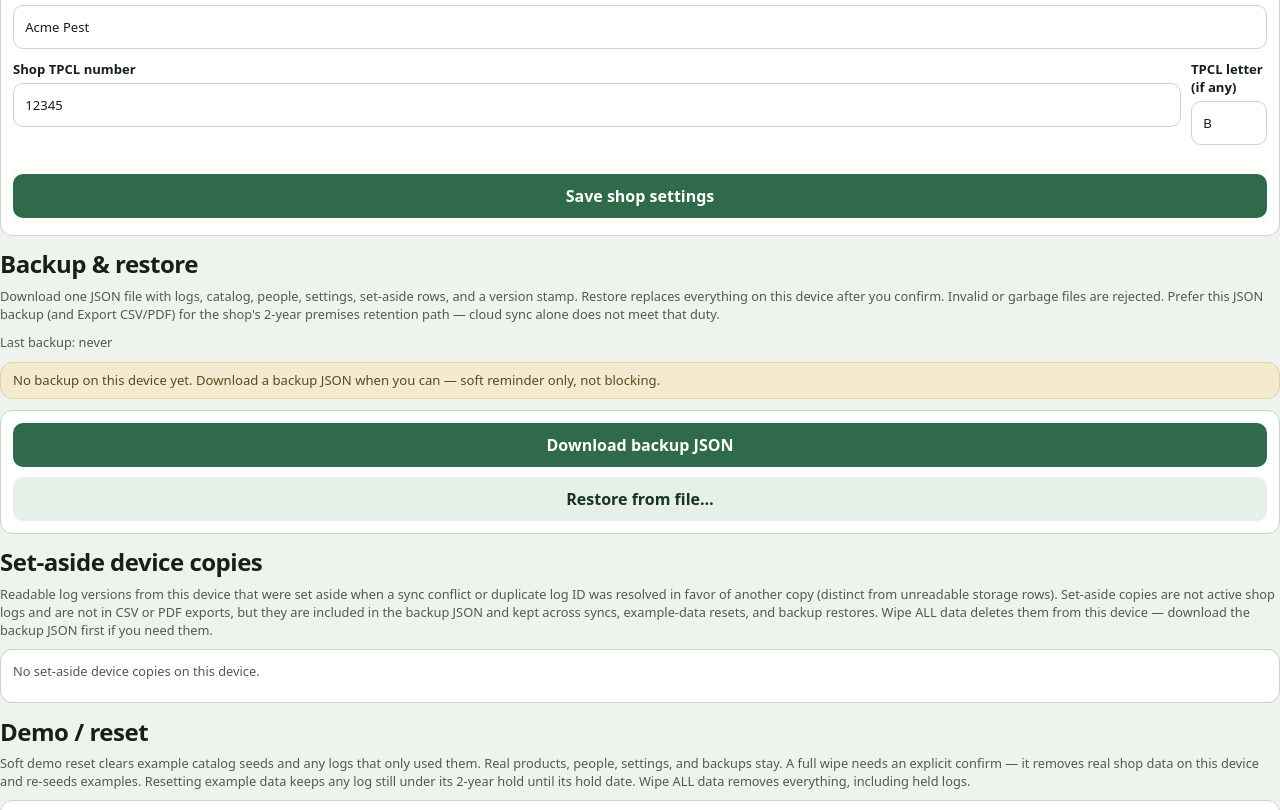
Test case: Settings backup: download (shared shop) › downloads the pulled snapshot with shared provenance
The image size is (1280, 810).
(page scrolled)
Click the button "Download backup JSON".
click(640, 445)  # box [13,423,1267,467]
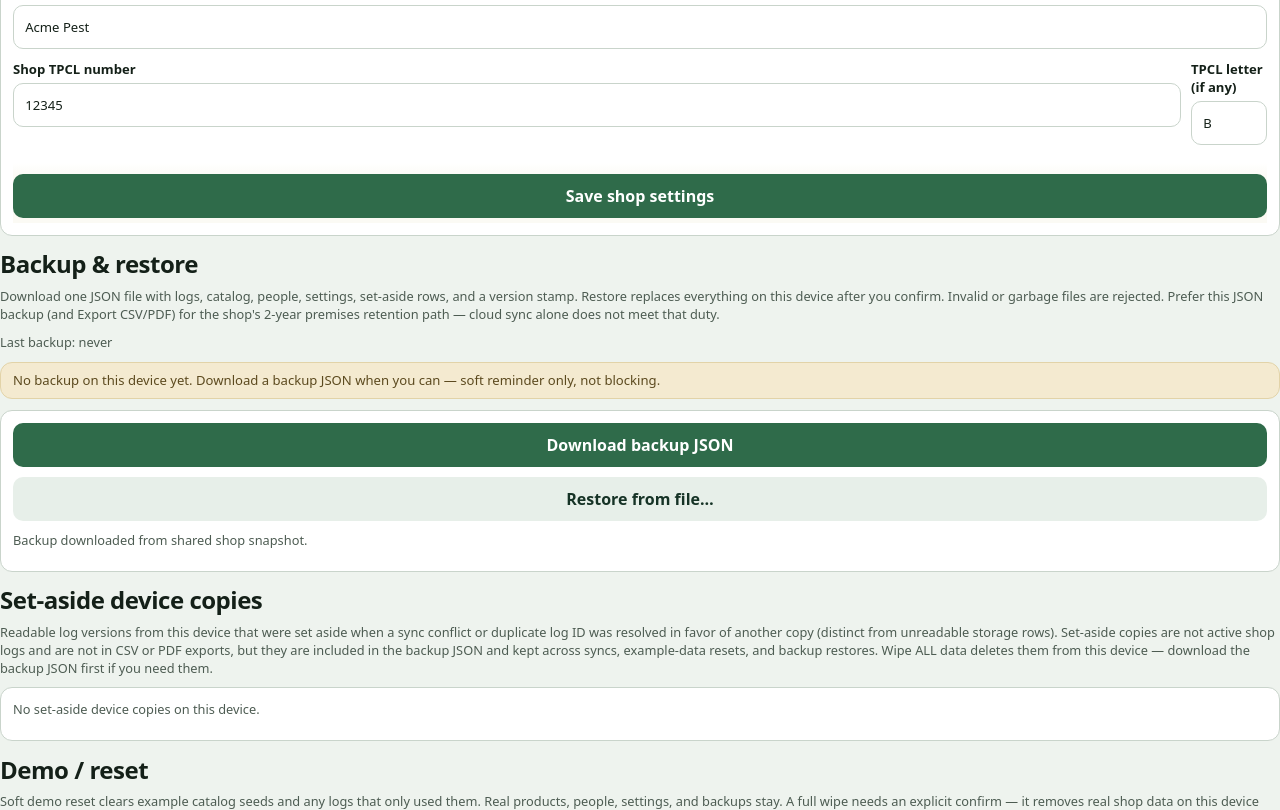
Check: the text "Backup downloaded from shared shop snapshot." is shown, box [13,531,307,549]
